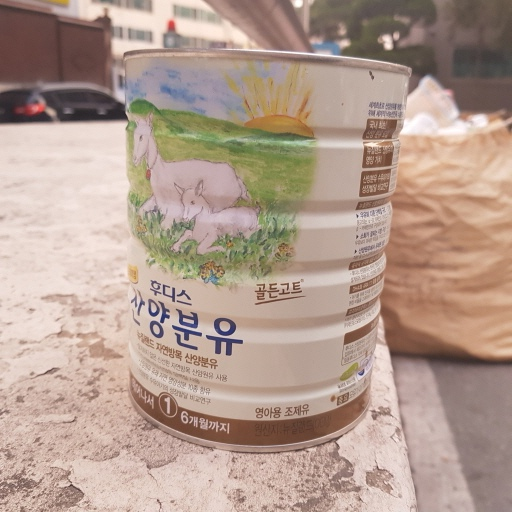Metal_1: (124, 48, 412, 457)
